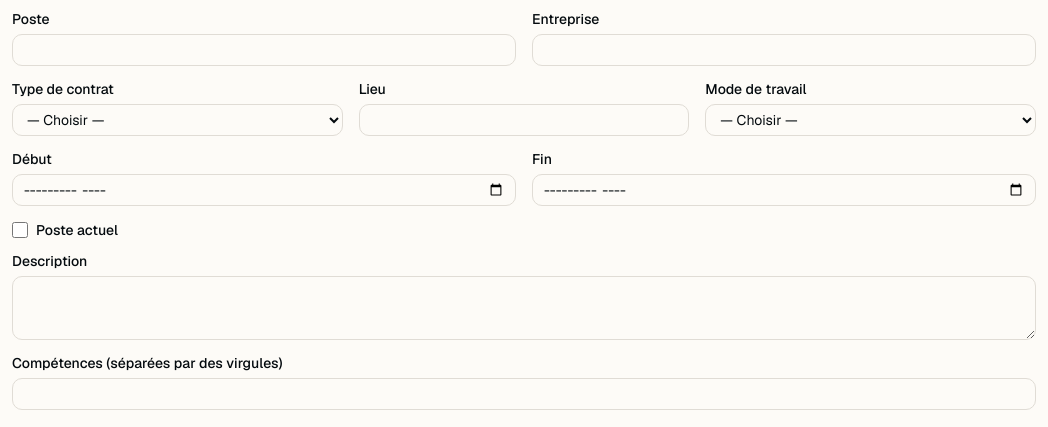
ExperienceFields › désactive la date de fin lorsque « Poste actuel » est coché
Check: the field labelled "Fin" is enabled, box top-left (532, 174), bottom-right (1036, 206)
Click the checkbox labelled "Poste actuel": (20, 230) top-left (12, 222), bottom-right (28, 238)
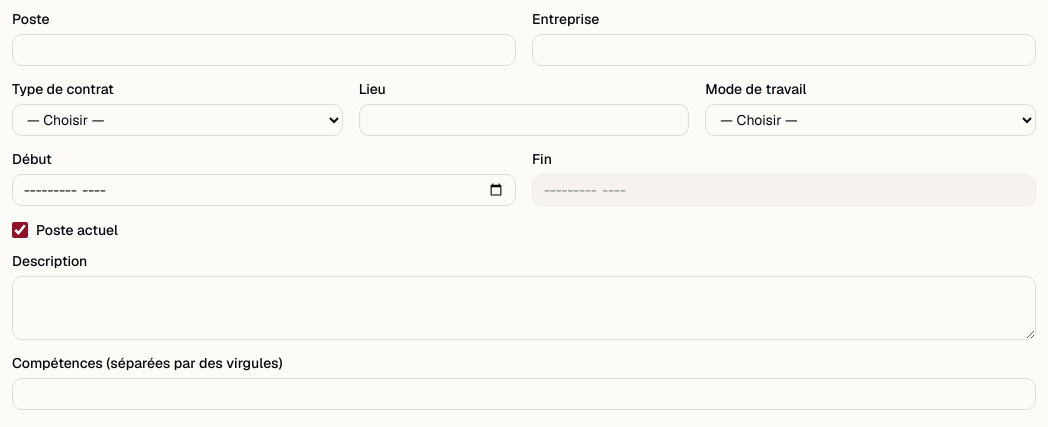
Check: the field labelled "Fin" is disabled, box top-left (532, 174), bottom-right (1036, 206)
Click the checkbox labelled "Poste actuel": (20, 230) top-left (12, 222), bottom-right (28, 238)
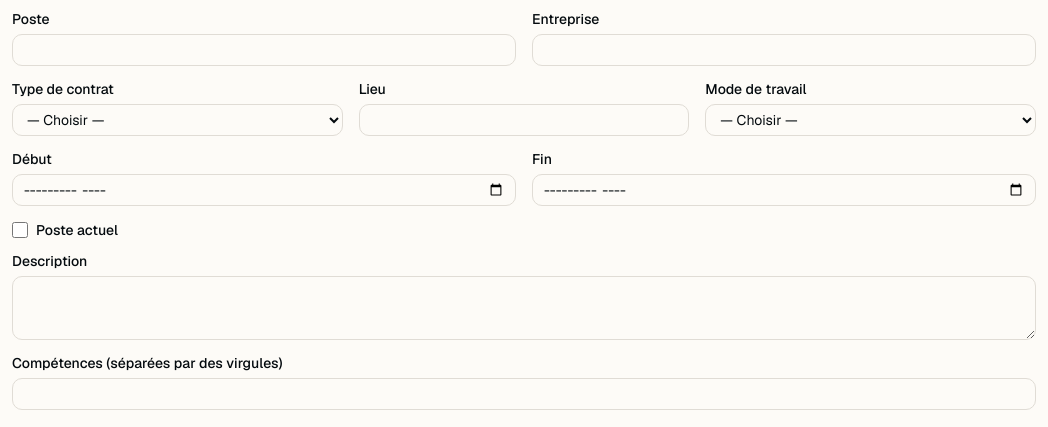
Check: the field labelled "Fin" is enabled, box top-left (532, 174), bottom-right (1036, 206)
